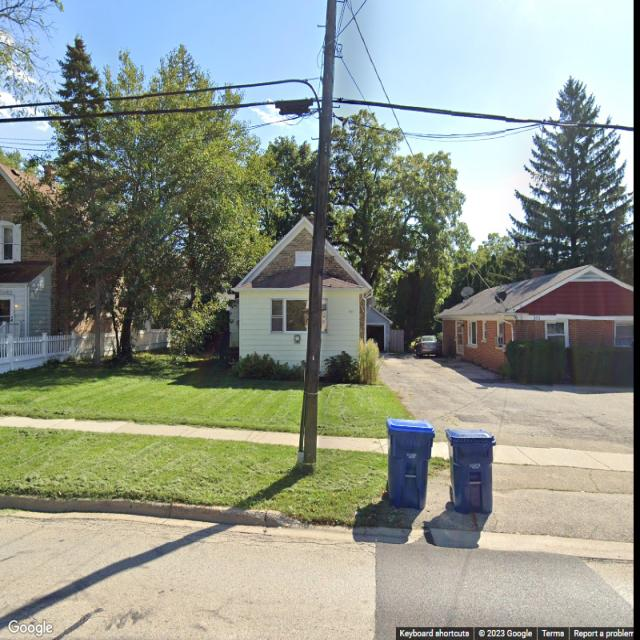House: (0, 164, 150, 365), (434, 264, 634, 384), (229, 218, 373, 376)
